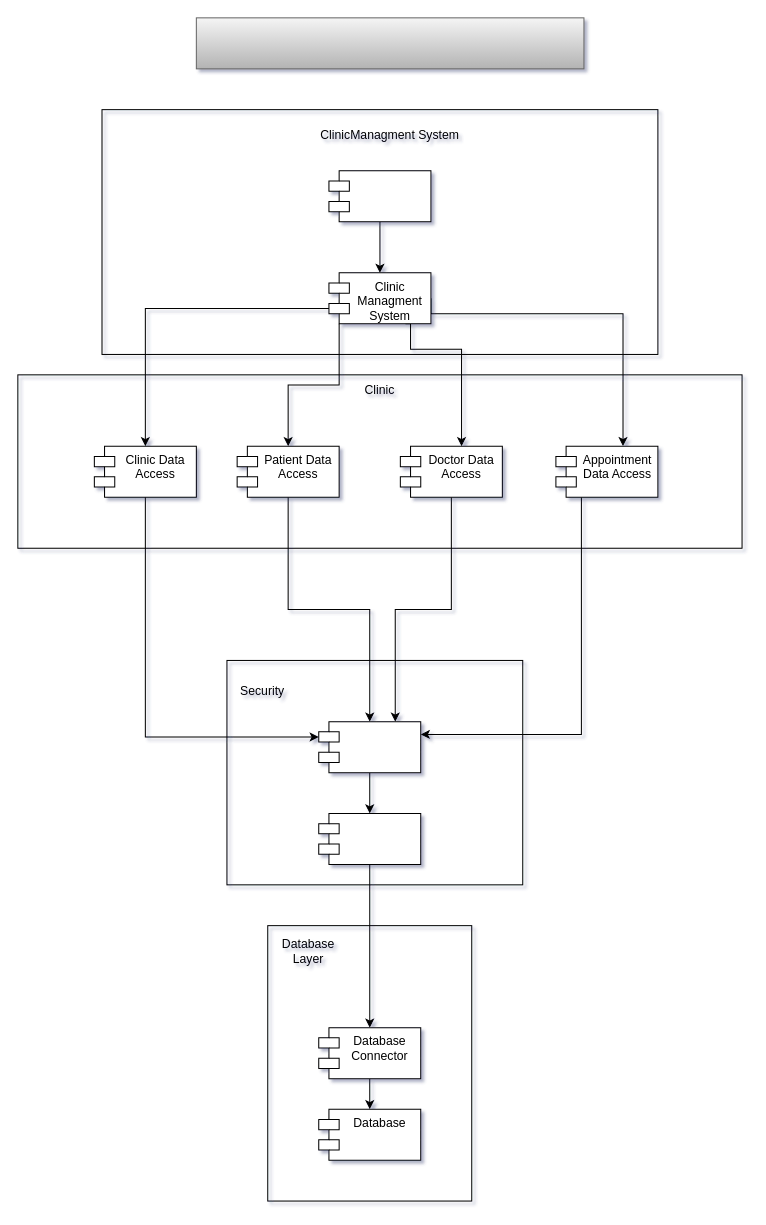
The diagram is 766 pixels wide and 1225 high, and some of its shapes have lost their labels. The shapes that lost their labels are listed below. From the top down, each one's centre as x and y in pixels, then its label:
At pixel 389 43: "Component Diagram".
At pixel 379 196: "System Admin".
At pixel 369 747: "Encryption".
At pixel 369 838: "Access Control".
